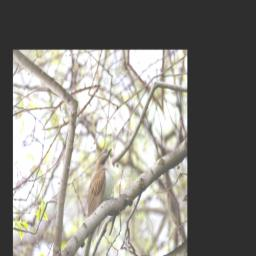Cuckoo: (57, 147, 137, 256)
